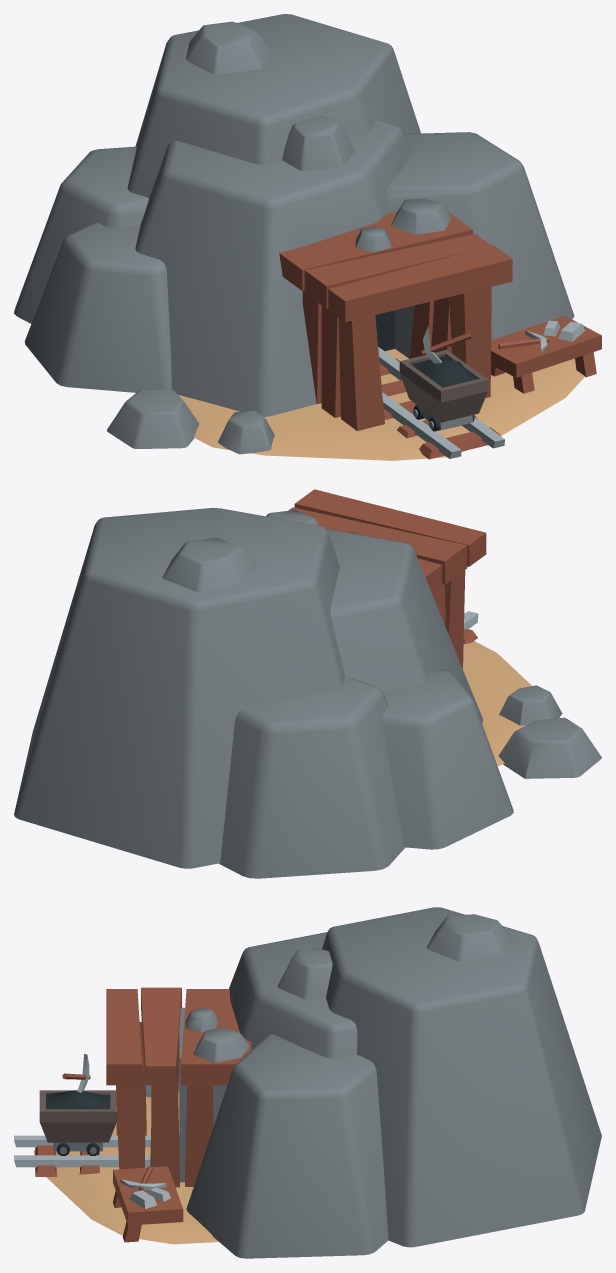
Rendered from mine.glb.
3 renders of one model, top to bottom at view 1: azimuth 30°, elevation 25°; view 2: azimuth 150°, elevation 25°; view 3: azimuth 270°, elevation 25°, orthographic. The views are drawn at different scales.
Visible parts, largest first — view 1: mine; view 2: mine; view 3: mine.
Part boxes in pixels (box(x1,y1,x2,y2)): mine: box(14, 14, 601, 460); mine: box(14, 489, 601, 878); mine: box(14, 907, 601, 1258).
Size of the model in its own units: 6.46 by 3.32 by 7.53.
